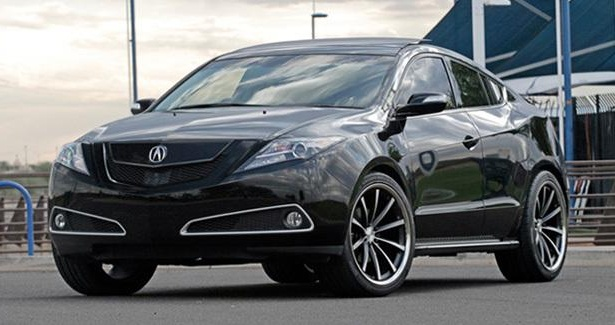car: (26, 29, 577, 311)
